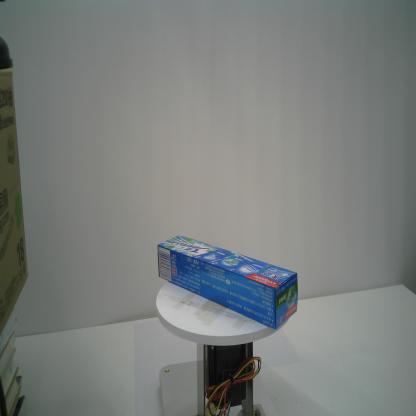Personal Hygiene: (156, 233, 299, 332)
